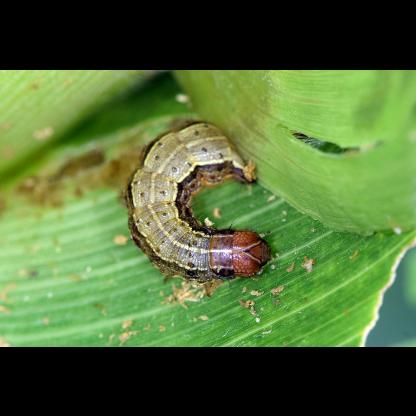Fall Armyworm Larvae: (114, 114, 276, 300)
